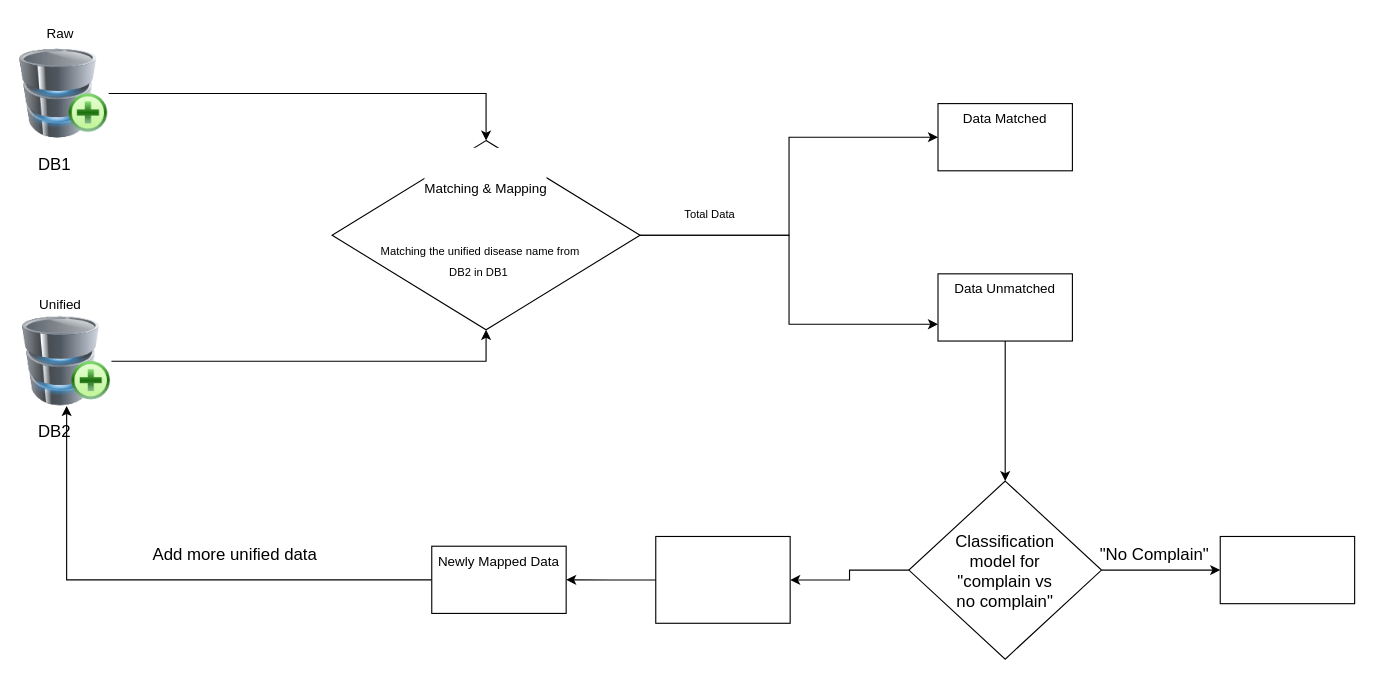
The diagram is 1374 pixels wide and 679 high, and some of its shapes have lost their labels. The shapes that lost their labels are listed below. From the top down, each one's centre as x and y in pixels, then its label:
(722,579): "Complain" Data will be shipped to doctors for manual checking
(1287,569): Discard the data
